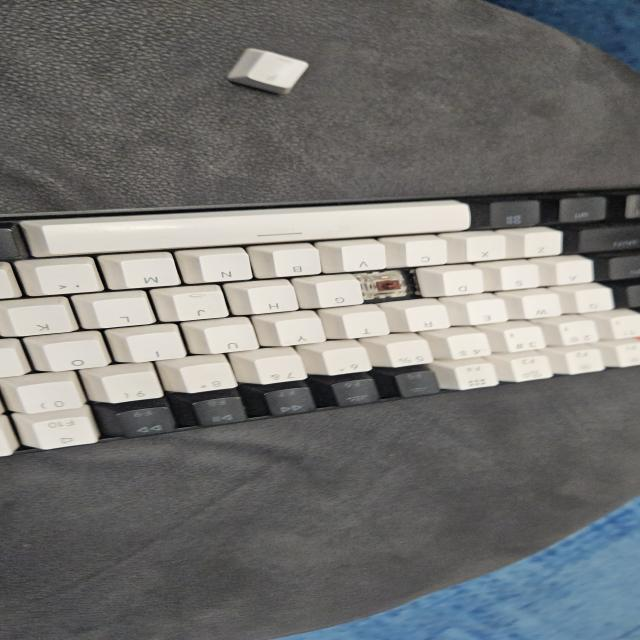C: (368, 272, 420, 294)
